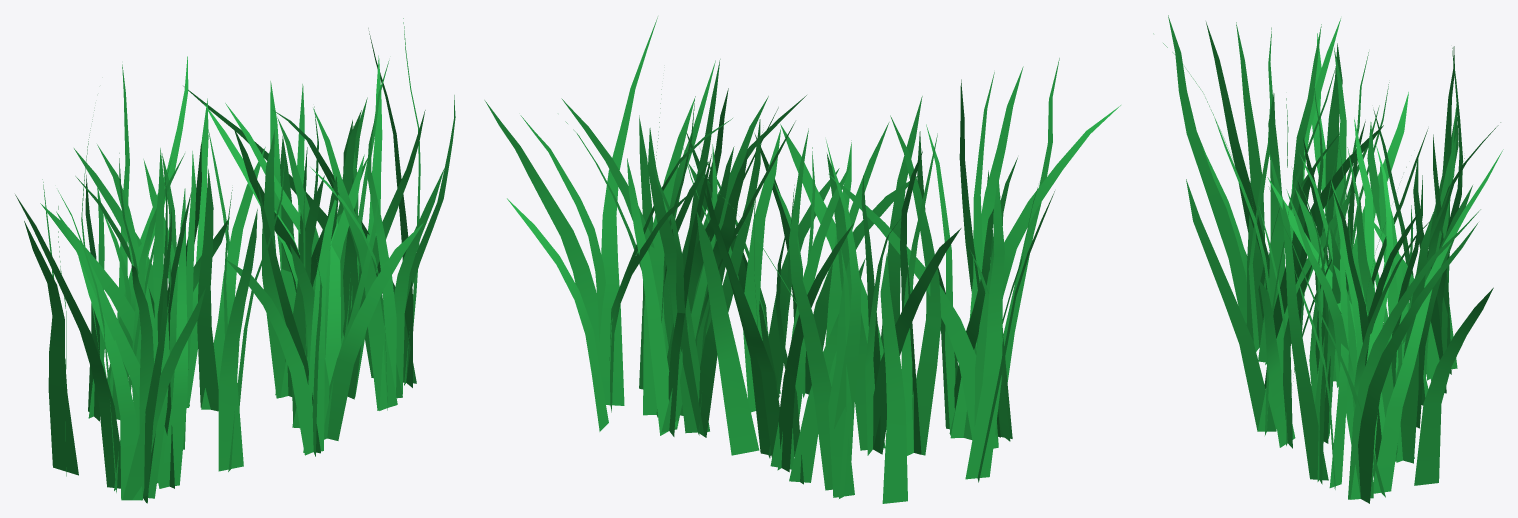
The model's file is coral_seagrass_B_medium.fbx.
3 views of the same model, side by side, from view 1: azimuth 30°, elevation 25°; view 2: azimuth 150°, elevation 25°; view 3: azimuth 270°, elevation 25° (orthographic). The views are drawn at different scales.
Visible parts, largest first — view 1: coral_seagrass_B_medium; view 2: coral_seagrass_B_medium; view 3: coral_seagrass_B_medium.
Part boxes in pixels (x1,y1,x2,y2): coral_seagrass_B_medium: [15, 18, 455, 503]; coral_seagrass_B_medium: [484, 17, 1120, 503]; coral_seagrass_B_medium: [1153, 15, 1503, 503].
Size of the model in its own units: 169 by 122 by 114.
